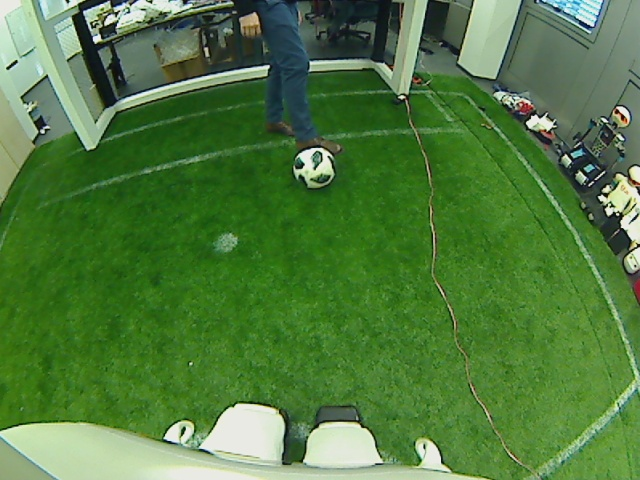ball: (292, 144, 340, 189)
